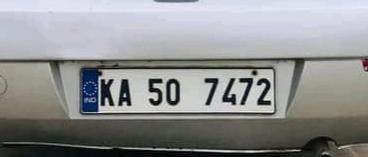0: (165, 75, 183, 108)
2: (256, 76, 273, 107)
4: (222, 75, 238, 109)
5: (145, 74, 164, 109)
7: (202, 74, 220, 108), (238, 74, 254, 108)
A: (117, 75, 134, 108)
K: (99, 75, 116, 108)
